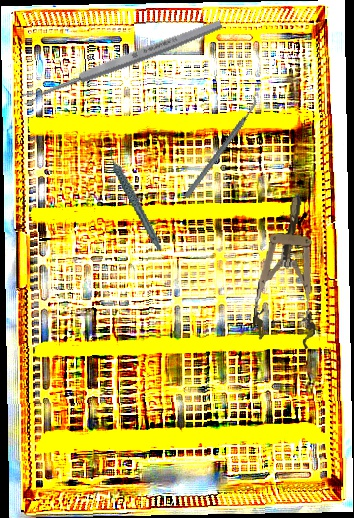Chopper: (158, 93, 284, 200)
Handpiece: (107, 140, 163, 257)
Speculum: (250, 193, 330, 350)
Surgical Spoon: (20, 17, 224, 107)
